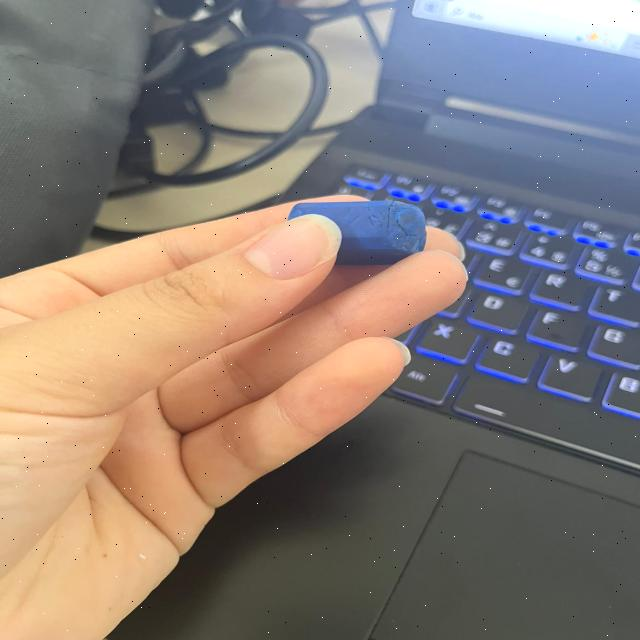eraser: (293, 190, 426, 264)
